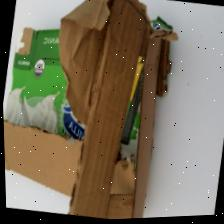cardboard: (0, 0, 186, 224)
